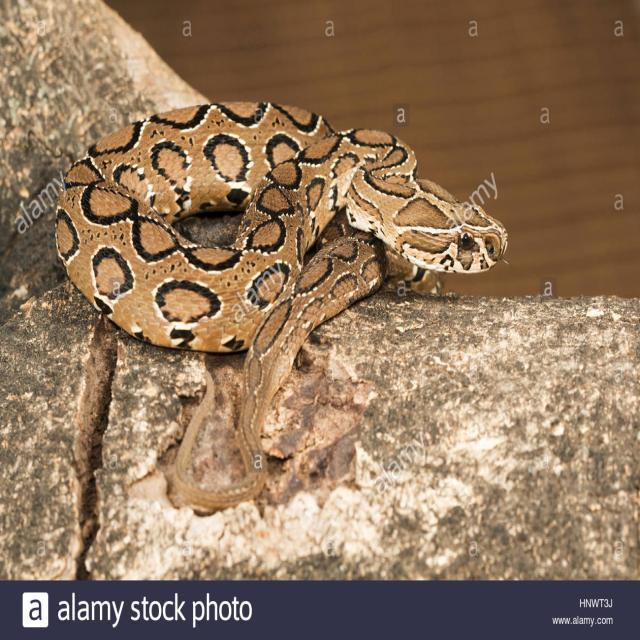Snake: (53, 98, 510, 515)
